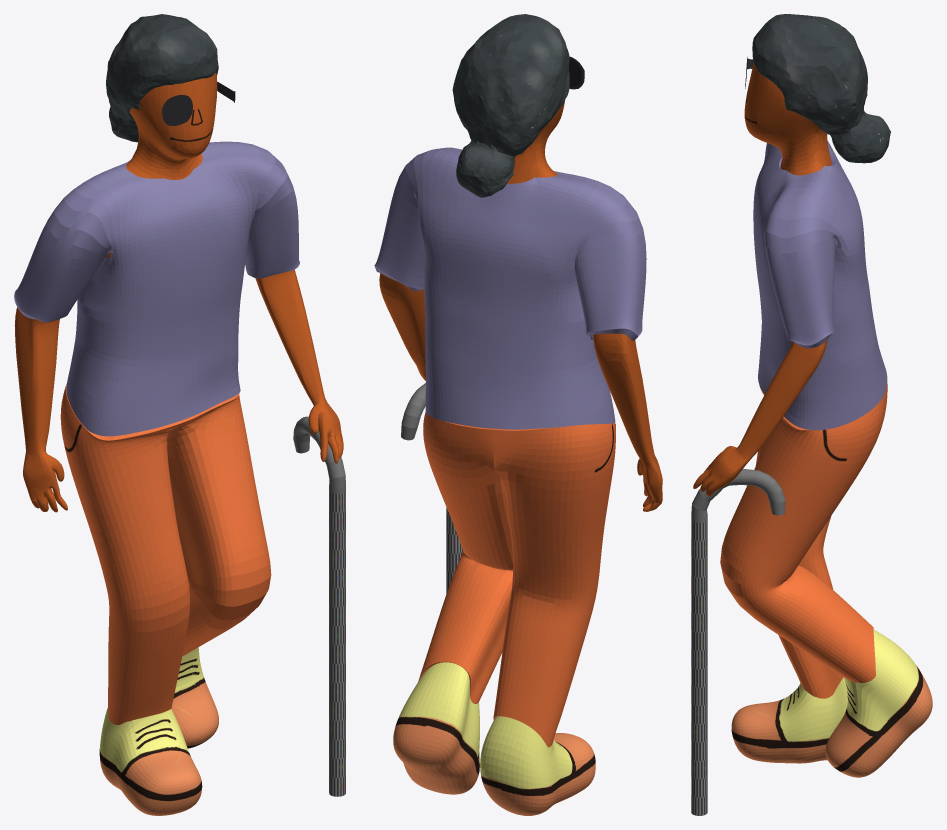
File: PersonaConBastonCAsilla2.glb
The picture shows the model from 3 angles, left to right: view 1: azimuth 30°, elevation 25°; view 2: azimuth 150°, elevation 25°; view 3: azimuth 270°, elevation 25°; orthographic projection. The views are drawn at different scales.
Visible parts, largest first — view 1: camisa, pantalon, cuerpo, zapatos, PELO, baston, lentes; view 2: camisa, pantalon, zapatos, PELO, cuerpo, baston; view 3: camisa, pantalon, zapatos, PELO, cuerpo, baston.
Part boxes in pixels (box(x1,y1,x2,y2)): camisa: box(14, 141, 299, 436); pantalon: box(60, 383, 271, 724); cuerpo: box(14, 72, 343, 512); zapatos: box(99, 647, 218, 815); PELO: box(106, 14, 218, 142); baston: box(293, 416, 345, 796); lentes: box(162, 95, 192, 125); camisa: box(374, 147, 646, 429); pantalon: box(418, 412, 615, 747); zapatos: box(393, 662, 595, 815); PELO: box(452, 14, 569, 197); cuerpo: box(379, 101, 662, 511); baston: box(401, 383, 462, 593); camisa: box(753, 140, 887, 430); pantalon: box(720, 382, 887, 698); zapatos: box(731, 629, 932, 777); PELO: box(752, 14, 890, 163); cuerpo: box(693, 63, 835, 496); baston: box(691, 469, 785, 815).
Bounding box in the file's own units: 6.58 × 17.5 × 5.12.
Materials: 7 (6 with a texture image).
